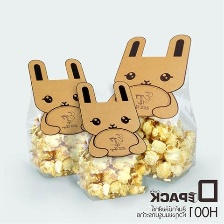snack: (106, 27, 202, 187), (68, 75, 157, 205), (17, 53, 101, 182)
